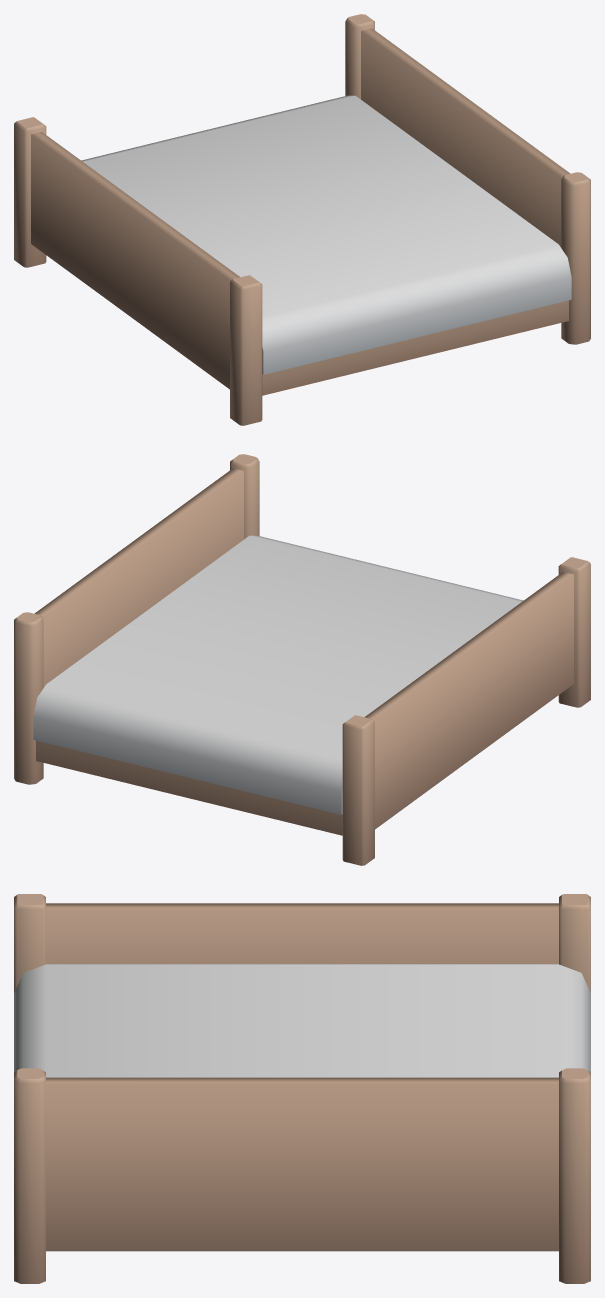
File: bed-detail-double.glb
The picture shows the model from 3 angles, top to bottom: view 1: azimuth 30°, elevation 25°; view 2: azimuth 150°, elevation 25°; view 3: azimuth 270°, elevation 25°; orthographic projection. The views are drawn at different scales.
Parts seen in each view (by area): view 1: bed-detail-double; view 2: bed-detail-double; view 3: bed-detail-double.
Part boxes in pixels (bbox=[...]): bed-detail-double: bbox=[14, 14, 590, 425]; bed-detail-double: bbox=[14, 454, 590, 865]; bed-detail-double: bbox=[14, 894, 590, 1283].
Bounding box in the file's own units: 1.6 × 0.7 × 1.8.
